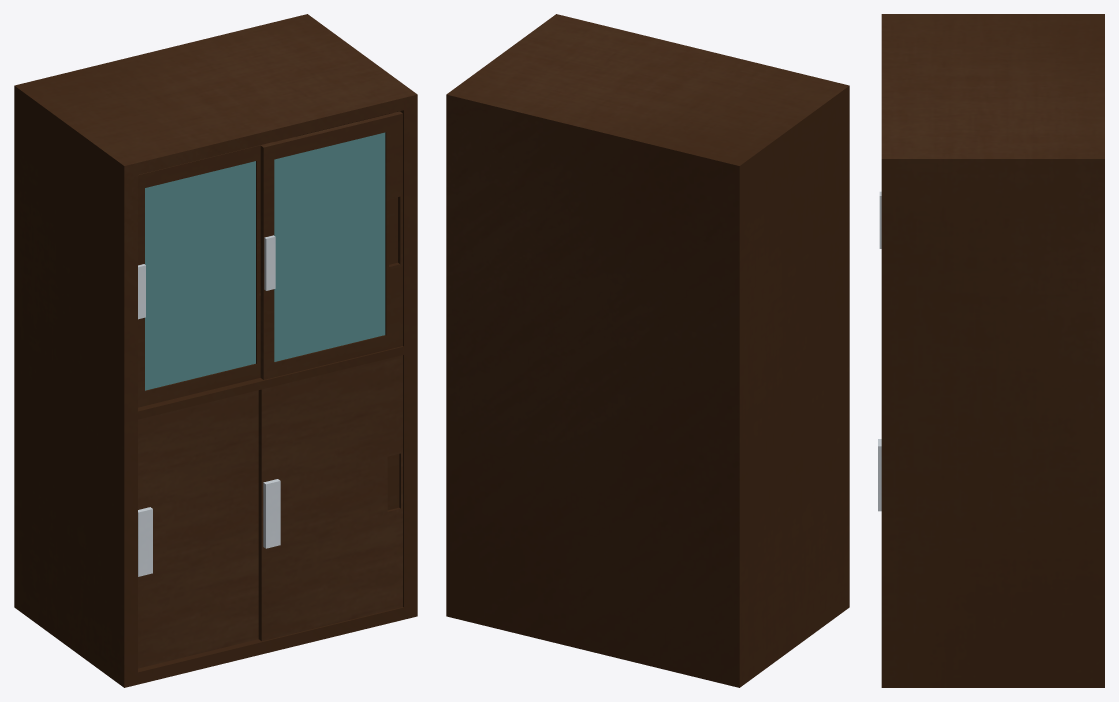
File: Cabinet_1.fbx
3 renders of one model, left to right at view 1: azimuth 30°, elevation 25°; view 2: azimuth 150°, elevation 25°; view 3: azimuth 270°, elevation 25°, orthographic.
Parts seen in each view (by area): view 1: Cabinet_1, Cabinet_3, Cabinet_4, Cabinet_2, Cabinet_1.001; view 2: Cabinet_1; view 3: Cabinet_1.
Boxes of the visible parts, box(x1,y1,x2,y2) form: Cabinet_1: box(14, 14, 417, 687); Cabinet_3: box(258, 355, 402, 641); Cabinet_4: box(260, 111, 402, 379); Cabinet_2: box(138, 390, 258, 668); Cabinet_1.001: box(138, 142, 273, 407); Cabinet_1: box(446, 14, 849, 687); Cabinet_1: box(881, 14, 1104, 687).
Bounding box in the file's own units: 1 × 1.7 × 0.6607.
